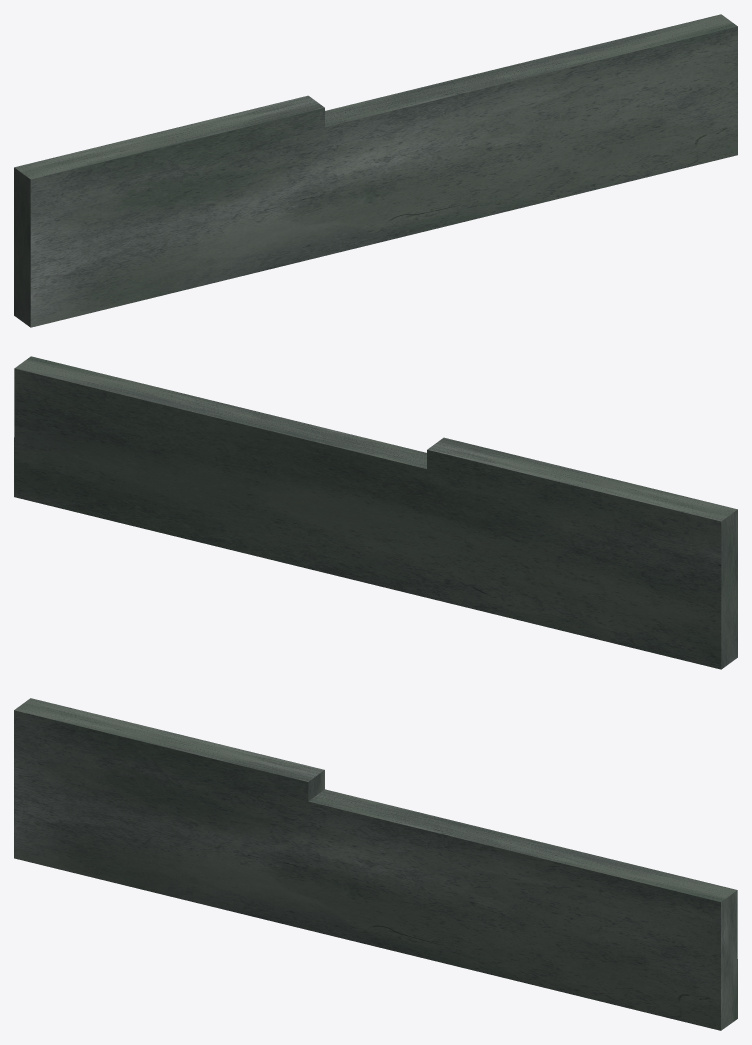
Rendered from leave_tree_wall_v01_fdi.fbx.
The picture shows the model from 3 angles, top to bottom: view 1: azimuth 30°, elevation 25°; view 2: azimuth 150°, elevation 25°; view 3: azimuth 330°, elevation 25°; orthographic projection.
Parts seen in each view (by area): view 1: wall; view 2: wall; view 3: wall.
Boxes of the visible parts, x1,y1,x2,y2 form: wall: (14,14,737,327); wall: (14,356,737,669); wall: (14,698,737,1030).
Size of the model in its own units: 3635 by 727 by 148.
